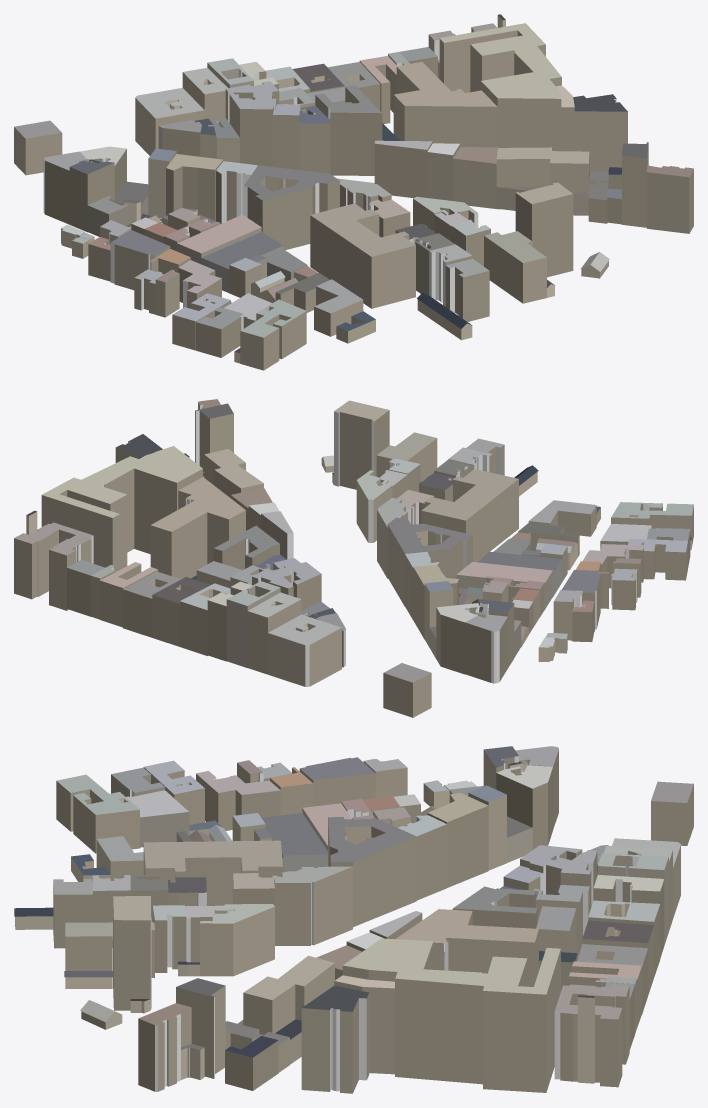
The picture shows the model from 3 angles, top to bottom: view 1: azimuth 30°, elevation 25°; view 2: azimuth 150°, elevation 25°; view 3: azimuth 270°, elevation 25°; orthographic projection. The views are drawn at different scales.
Parts seen in each view (by area): view 1: tuile; view 2: tuile; view 3: tuile.
Boxes of the visible parts, x1,y1,x2,y2 form: tuile: [14, 14, 693, 370]; tuile: [14, 399, 693, 717]; tuile: [14, 746, 693, 1093].
Bounding box in the file's own units: 262 × 40.52 × 254.
